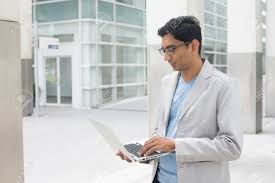Indian_Male: (153, 15, 207, 73)
